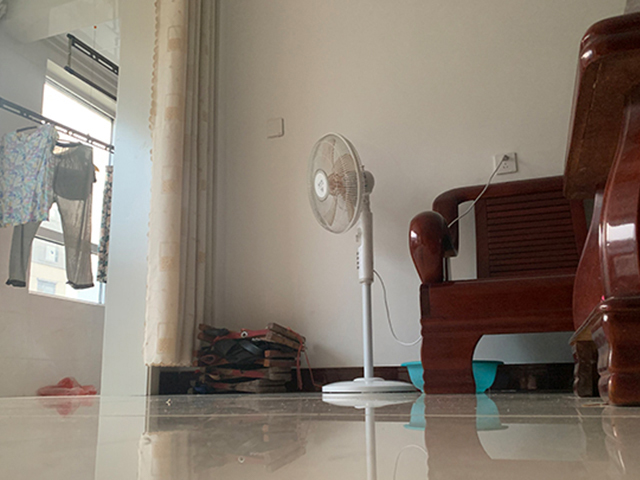curtain: (142, 1, 211, 368)
sofa: (408, 172, 571, 396)
stool: (188, 320, 308, 395)
table: (562, 11, 640, 408)
wire: (446, 149, 514, 232)
